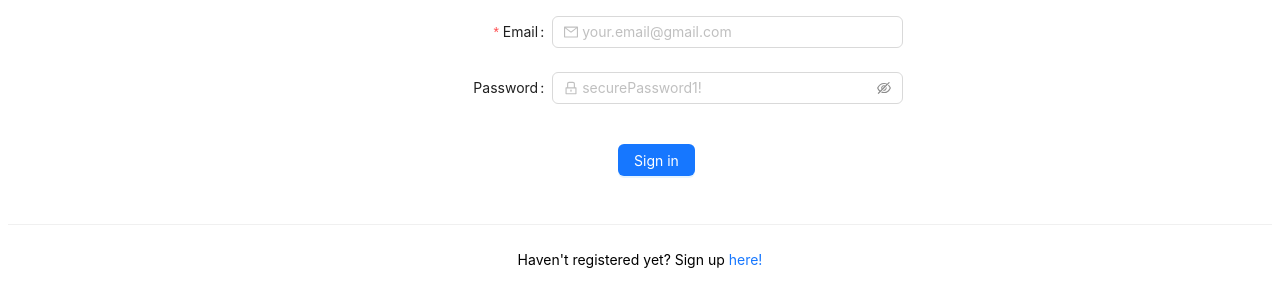
Test: LoginForm - basic tests › displays validation messages for required fields
The width and height of the screenshot is (1280, 285).
Click the button "Sign in" at (656, 160), box [618, 144, 695, 176]
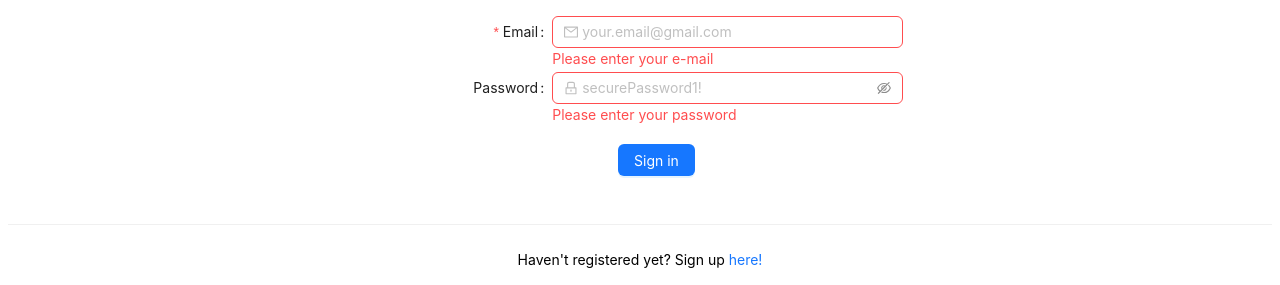
Expected: the text "Please enter your e-mail" is shown, [552, 50, 713, 67]
Expected: the text "Please enter your password" is shown, [552, 106, 736, 123]
